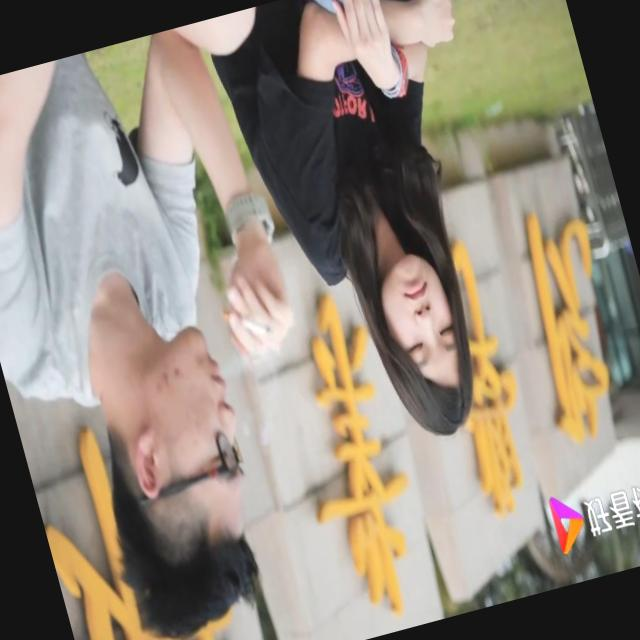cigarette: (215, 291, 282, 358)
